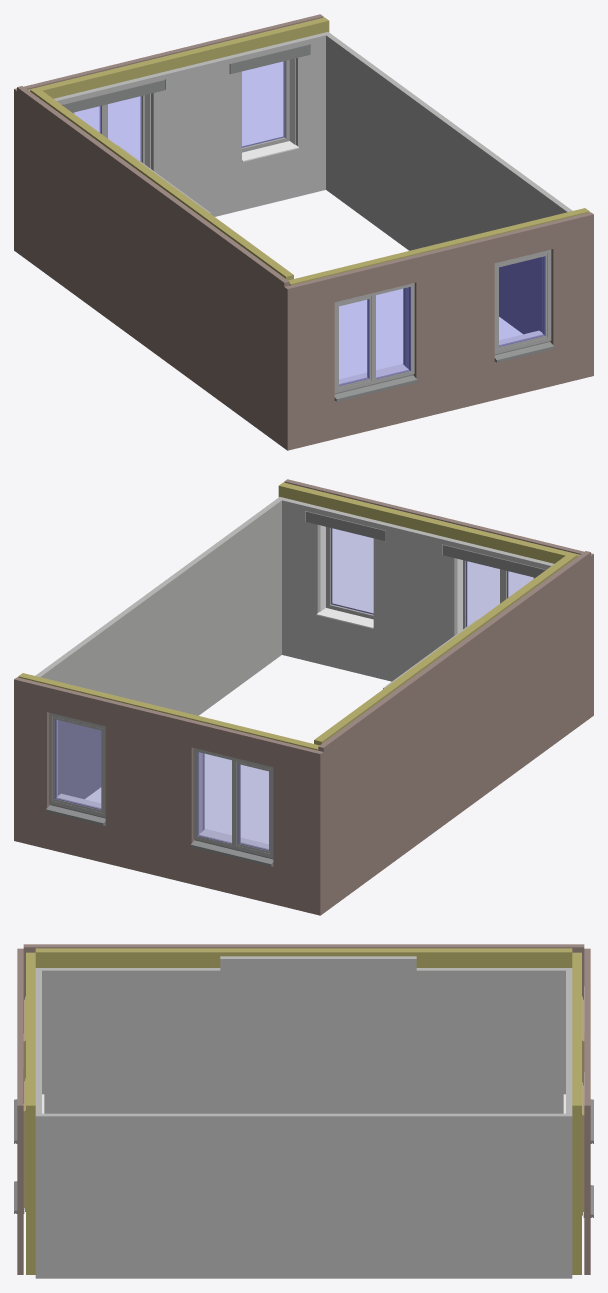
The model's file is 01_standard.gltf.
The picture shows the model from 3 angles, top to bottom: view 1: azimuth 30°, elevation 25°; view 2: azimuth 150°, elevation 25°; view 3: azimuth 270°, elevation 25°; orthographic projection. The views are drawn at different scales.
Parts seen in each view (by area): view 1: [3323434]21_metselwerk_oranje_100, [3323433]21_metselwerk_oranje_100, [3323428]21_kalkzandsteen_100, [3323426]21_kalkzandsteen_100, [3323431]21_isolatie_mineraal_150, [3323483]draaikiep_alcoa, [3323497]draaikiep_alcoa, [3323511]vast glas_alcoa, [3323432]21_isolatie_mineraal_150, [3323512]draaikiep_alcoa, [3323435]21_metselwerk_oranje_100, [3323430]21_isolatie_mineraal_150 (+6 smaller); view 2: [3323434]21_metselwerk_oranje_100, [3323435]21_metselwerk_oranje_100, [3323428]21_kalkzandsteen_100, [3323427]21_kalkzandsteen_100, [3323430]21_isolatie_mineraal_150, [3323497]draaikiep_alcoa, [3323483]draaikiep_alcoa, [3323531]vast glas_alcoa, [3323432]21_isolatie_mineraal_150, [3323532]draaikiep_alcoa, [3323433]21_metselwerk_oranje_100, [3323431]21_isolatie_mineraal_150 (+5 smaller); view 3: [3323428]21_kalkzandsteen_100, [3323429]21_kalkzandsteen_100, [3323432]21_isolatie_mineraal_150, [3323430]21_isolatie_mineraal_150, [3323431]21_isolatie_mineraal_150, [3323434]21_metselwerk_oranje_100, [3323433]21_metselwerk_oranje_100, [3323435]21_metselwerk_oranje_100, [3323426]21_kalkzandsteen_100, [3323427]21_kalkzandsteen_100.
Part boxes in pixels (x1,y1,x2,y2): [3323434]21_metselwerk_oranje_100: (17,86,289,447); [3323433]21_metselwerk_oranje_100: (284,212,593,450); [3323428]21_kalkzandsteen_100: (326,34,572,334); [3323426]21_kalkzandsteen_100: (54,32,330,216); [3323431]21_isolatie_mineraal_150: (28,17,329,98); [3323483]draaikiep_alcoa: (499,256,545,346); [3323497]draaikiep_alcoa: (242,61,284,147); [3323511]vast glas_alcoa: (376,287,410,378); [3323432]21_isolatie_mineraal_150: (30,87,293,280); [3323512]draaikiep_alcoa: (339,299,369,385); [3323435]21_metselwerk_oranje_100: (14,14,323,252); [3323430]21_isolatie_mineraal_150: (288,208,589,285); [3323434]21_metselwerk_oranje_100: (318,551,590,912); [3323435]21_metselwerk_oranje_100: (14,677,323,915); [3323428]21_kalkzandsteen_100: (35,499,281,799); [3323427]21_kalkzandsteen_100: (277,497,553,681); [3323430]21_isolatie_mineraal_150: (278,482,579,563); [3323497]draaikiep_alcoa: (55,719,100,809); [3323483]draaikiep_alcoa: (331,528,373,613); [3323531]vast glas_alcoa: (197,752,231,843); [3323432]21_isolatie_mineraal_150: (314,552,577,745); [3323532]draaikiep_alcoa: (238,764,268,850); [3323433]21_metselwerk_oranje_100: (284,479,593,717); [3323431]21_isolatie_mineraal_150: (18,673,319,750); [3323428]21_kalkzandsteen_100: (42,1113,565,1278); [3323429]21_kalkzandsteen_100: (42,956,565,1113); [3323432]21_isolatie_mineraal_150: (35,948,572,967); [3323430]21_isolatie_mineraal_150: (26,952,35,1274); [3323431]21_isolatie_mineraal_150: (572,952,581,1274); [3323434]21_metselwerk_oranje_100: (23,944,584,999); [3323433]21_metselwerk_oranje_100: (17,948,23,1274); [3323435]21_metselwerk_oranje_100: (584,948,590,1274); [3323426]21_kalkzandsteen_100: (566,968,572,1278); [3323427]21_kalkzandsteen_100: (35,968,41,1278).
Bounding box in the file's own units: 5.81 × 3.32 × 9.08.
